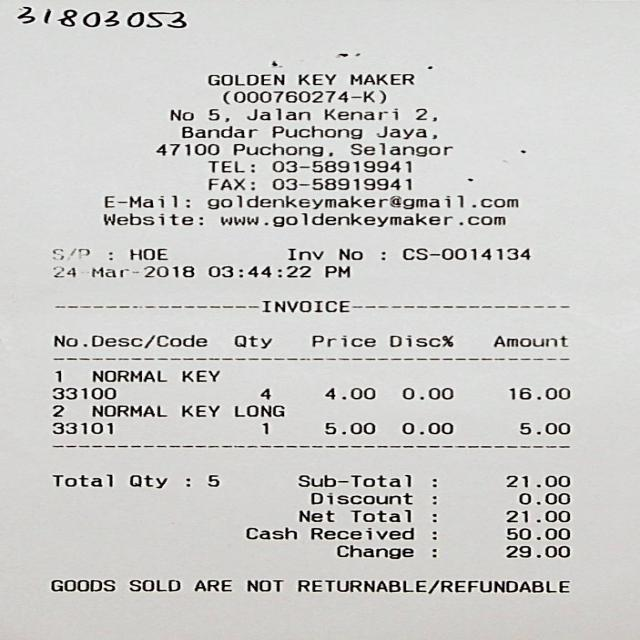text: (206, 194, 516, 208), (220, 211, 502, 226), (296, 579, 568, 593), (220, 89, 384, 103), (53, 333, 205, 348), (49, 264, 193, 276), (270, 160, 410, 172), (402, 247, 527, 260), (297, 474, 408, 487), (270, 123, 360, 139), (348, 141, 449, 155), (270, 178, 410, 188), (307, 491, 411, 504), (232, 142, 322, 156), (258, 298, 348, 312), (310, 527, 414, 539), (205, 264, 308, 276), (103, 212, 201, 224), (333, 544, 412, 558), (101, 194, 188, 206), (322, 107, 399, 120), (179, 125, 254, 137), (348, 508, 411, 522), (506, 386, 568, 400), (244, 107, 310, 120), (386, 334, 452, 347), (206, 74, 282, 85), (89, 405, 165, 416), (311, 334, 374, 347), (506, 526, 568, 539), (494, 335, 566, 346), (48, 579, 114, 591), (51, 473, 111, 486), (348, 72, 412, 84), (89, 370, 165, 380), (504, 510, 567, 522), (156, 142, 217, 154), (51, 387, 115, 398), (504, 475, 567, 486), (322, 386, 374, 399), (375, 125, 426, 138), (51, 422, 111, 433), (518, 491, 568, 504), (504, 546, 567, 556), (322, 422, 374, 434), (401, 386, 452, 398), (231, 405, 284, 416), (126, 579, 178, 590), (518, 422, 568, 433), (206, 160, 251, 172), (402, 422, 451, 433), (126, 247, 166, 260), (244, 528, 294, 538), (233, 334, 270, 347), (297, 508, 333, 521), (128, 475, 165, 487), (286, 247, 320, 260), (180, 405, 220, 416), (297, 72, 333, 84), (245, 579, 281, 591), (209, 178, 252, 188), (178, 370, 218, 380), (193, 579, 229, 590), (51, 248, 87, 258), (324, 264, 348, 276), (338, 247, 360, 260), (169, 108, 192, 120), (414, 106, 430, 120), (205, 473, 217, 486), (208, 108, 220, 120), (258, 386, 270, 398), (50, 405, 62, 416), (260, 422, 266, 433), (55, 370, 58, 380)
